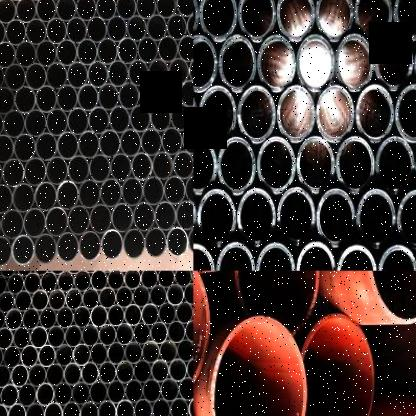pipe: (209, 314, 308, 416), (300, 312, 374, 416), (235, 270, 320, 336), (367, 271, 416, 324), (194, 271, 212, 403), (357, 189, 396, 249), (236, 189, 276, 247), (296, 136, 335, 194), (257, 136, 296, 194), (376, 136, 415, 194), (198, 189, 236, 248), (277, 187, 315, 246), (356, 84, 394, 143), (257, 35, 297, 91), (238, 84, 275, 144), (336, 135, 374, 193), (277, 85, 315, 143), (375, 34, 413, 92), (199, 85, 236, 144), (317, 189, 355, 246), (316, 86, 354, 143), (219, 35, 256, 93), (297, 34, 334, 91), (335, 37, 373, 92), (218, 138, 255, 194), (238, 0, 276, 43), (276, 0, 315, 40), (199, 0, 237, 41), (354, 0, 392, 41), (316, 0, 353, 41), (194, 34, 218, 92), (396, 189, 416, 250), (193, 138, 216, 191), (395, 85, 416, 142), (296, 241, 335, 271), (217, 241, 255, 271), (256, 244, 295, 271), (377, 244, 416, 270), (337, 246, 376, 270), (394, 0, 416, 41), (34, 234, 58, 265), (144, 227, 167, 259), (111, 202, 134, 234), (78, 231, 102, 261), (34, 182, 58, 212), (34, 132, 58, 162), (67, 205, 90, 236), (57, 232, 80, 263), (132, 202, 155, 233), (1, 209, 24, 240), (89, 204, 112, 235), (78, 179, 101, 210), (67, 155, 90, 185), (23, 208, 46, 238), (12, 183, 35, 213), (13, 133, 36, 163), (119, 128, 142, 158), (12, 235, 34, 266), (166, 227, 188, 258), (154, 201, 176, 232), (142, 176, 164, 207), (100, 178, 122, 209), (101, 230, 123, 260), (45, 207, 67, 237), (164, 176, 186, 206), (78, 130, 100, 160), (24, 157, 46, 187), (2, 158, 24, 188), (121, 177, 143, 207), (110, 153, 132, 183), (45, 156, 67, 186), (152, 151, 174, 181), (89, 154, 111, 184), (140, 127, 162, 157), (123, 229, 145, 259), (57, 180, 78, 211), (130, 152, 152, 181), (3, 110, 25, 139), (99, 129, 121, 158), (14, 86, 36, 115), (161, 127, 183, 156), (24, 109, 46, 138), (57, 131, 78, 161), (193, 244, 216, 271), (46, 108, 68, 136), (172, 150, 194, 178), (67, 108, 89, 136), (35, 86, 57, 114), (77, 84, 99, 112), (118, 82, 140, 110), (170, 104, 192, 132), (150, 104, 172, 132), (129, 104, 151, 132), (108, 106, 130, 134), (4, 64, 26, 92), (88, 107, 110, 134), (45, 63, 67, 90), (35, 41, 57, 68), (126, 15, 148, 42), (96, 38, 118, 65), (106, 16, 128, 43), (146, 14, 168, 41), (98, 83, 119, 111), (57, 85, 78, 113), (139, 82, 160, 110), (107, 60, 128, 88), (148, 58, 169, 86), (128, 59, 149, 87), (25, 63, 46, 91), (137, 36, 158, 64), (159, 80, 180, 108), (67, 62, 88, 90), (87, 61, 108, 88), (168, 58, 189, 85), (46, 18, 67, 45), (15, 41, 36, 68), (5, 19, 26, 46), (86, 16, 107, 43), (77, 39, 98, 66), (117, 37, 138, 64), (166, 14, 187, 41), (26, 18, 46, 46), (57, 40, 78, 66), (66, 18, 87, 44), (158, 36, 178, 63), (176, 201, 193, 231), (160, 378, 180, 403), (142, 378, 161, 404), (80, 362, 100, 386), (89, 380, 108, 405), (36, 0, 56, 23), (16, 0, 36, 23), (0, 384, 19, 408), (53, 382, 72, 406), (107, 380, 126, 404), (125, 380, 144, 404), (11, 364, 30, 388), (63, 362, 82, 386), (97, 360, 116, 384), (133, 360, 152, 384), (151, 359, 170, 383), (168, 358, 187, 382), (55, 344, 74, 368), (107, 342, 126, 366), (159, 340, 178, 364), (95, 0, 116, 21), (75, 0, 96, 21), (115, 0, 136, 21), (56, 0, 76, 22), (20, 345, 39, 368), (0, 86, 15, 115), (0, 42, 16, 69), (158, 302, 176, 326), (98, 286, 116, 310), (149, 284, 167, 308), (18, 384, 36, 408), (36, 383, 54, 407), (72, 382, 90, 406), (28, 364, 46, 388), (46, 362, 64, 386), (116, 360, 134, 384), (72, 343, 90, 367), (90, 342, 108, 366), (142, 340, 160, 364), (12, 326, 30, 350), (47, 325, 65, 349), (64, 324, 82, 348), (82, 324, 100, 348), (150, 321, 168, 345), (135, 0, 156, 20), (177, 36, 193, 62), (22, 308, 40, 331), (39, 307, 57, 330), (90, 305, 108, 328), (107, 304, 125, 327), (141, 303, 159, 326), (64, 288, 82, 311), (82, 287, 100, 310), (116, 286, 134, 309), (166, 284, 184, 307), (38, 344, 56, 367), (30, 326, 48, 349), (116, 323, 134, 346), (132, 322, 150, 345), (168, 321, 186, 344), (125, 341, 142, 365), (0, 134, 14, 163), (156, 0, 177, 19), (73, 306, 91, 328), (14, 290, 32, 312), (31, 290, 49, 312), (132, 286, 150, 308), (3, 346, 21, 368), (5, 309, 22, 332), (0, 184, 13, 214), (0, 0, 16, 24), (177, 338, 193, 362), (170, 397, 190, 416), (6, 274, 24, 295), (124, 304, 141, 326), (176, 302, 193, 324), (24, 272, 41, 294), (99, 324, 116, 346), (57, 307, 73, 330), (180, 80, 193, 108), (74, 271, 91, 292), (49, 289, 65, 311), (41, 272, 57, 294), (58, 270, 74, 292), (140, 271, 158, 290), (90, 270, 107, 290), (179, 378, 193, 402), (0, 236, 11, 266), (0, 292, 15, 314), (156, 270, 174, 288), (134, 398, 152, 416), (152, 398, 170, 416), (123, 271, 140, 290), (97, 399, 116, 416), (0, 327, 14, 350), (107, 270, 123, 290), (176, 0, 193, 18), (116, 399, 134, 416), (182, 127, 193, 154), (174, 271, 192, 287), (80, 400, 98, 416), (184, 174, 193, 204), (44, 401, 62, 416), (62, 401, 80, 416), (25, 402, 44, 416), (7, 403, 26, 416), (0, 365, 10, 389), (183, 282, 193, 305), (184, 320, 193, 343), (186, 12, 193, 40), (187, 226, 193, 257), (186, 358, 193, 382), (0, 19, 5, 46), (188, 58, 193, 84), (0, 275, 6, 296), (0, 271, 17, 278), (0, 64, 4, 92), (0, 310, 5, 332), (16, 271, 32, 277), (188, 397, 193, 416), (0, 111, 3, 139), (0, 404, 7, 416), (33, 271, 49, 276), (0, 346, 3, 369), (0, 159, 2, 188)
